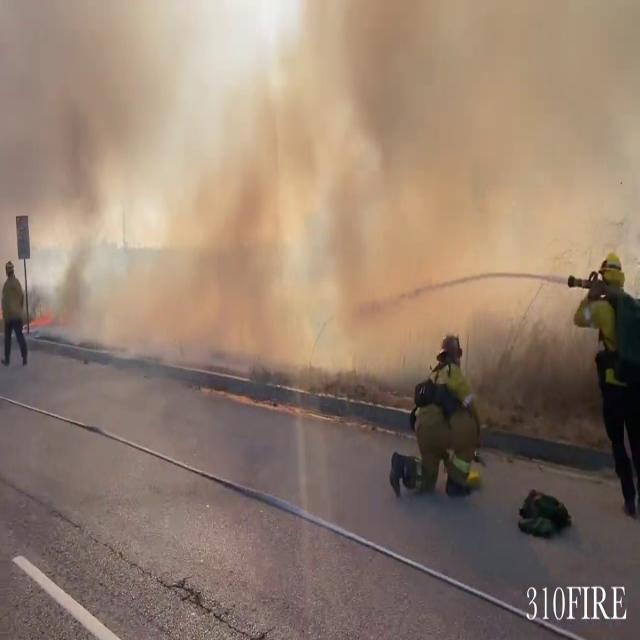Smoke: (36, 1, 624, 376)
